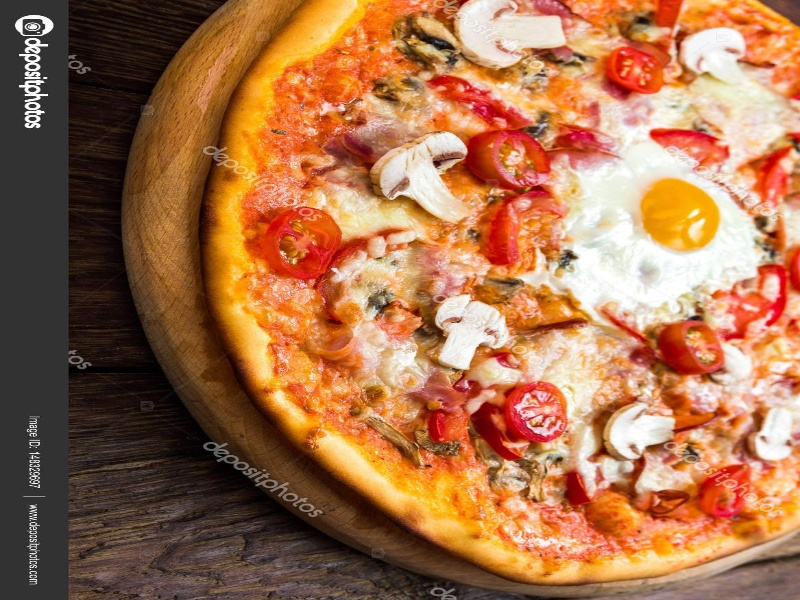champignon: (358, 124, 479, 235), (439, 1, 592, 79), (424, 289, 517, 376), (592, 389, 689, 463), (670, 13, 759, 92)
oeuf: (600, 153, 733, 286)
